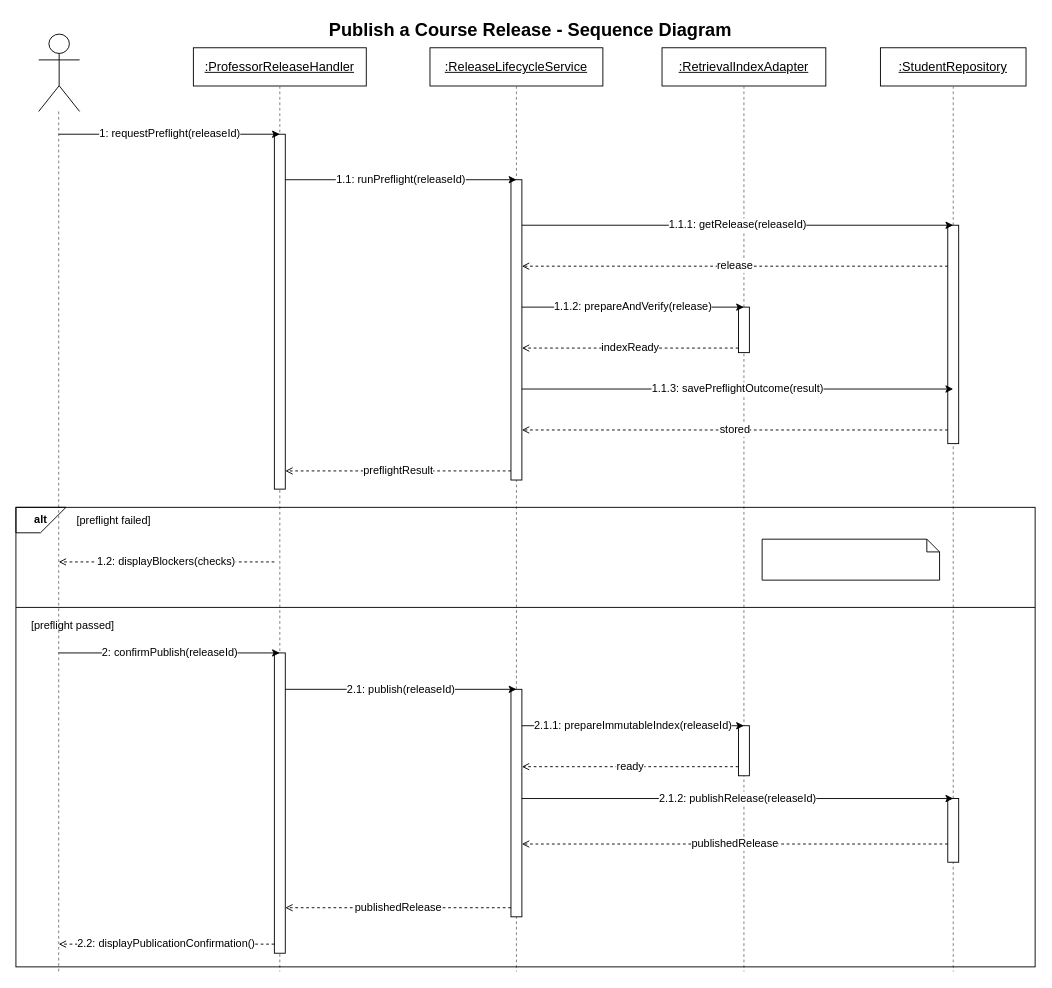
This 1052x988 diagram has some shape labels left out. The box of each missing label's shape, as (x1, y1, x2, y2) in pixels:
Professor: (38, 33, 80, 111)
Release remains DRAFT: (761, 538, 940, 580)
